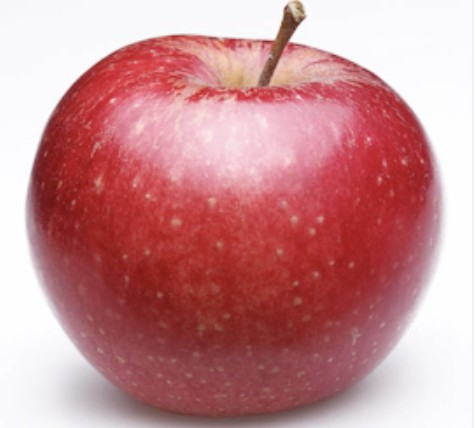fresh_apple: (24, 32, 443, 419)
